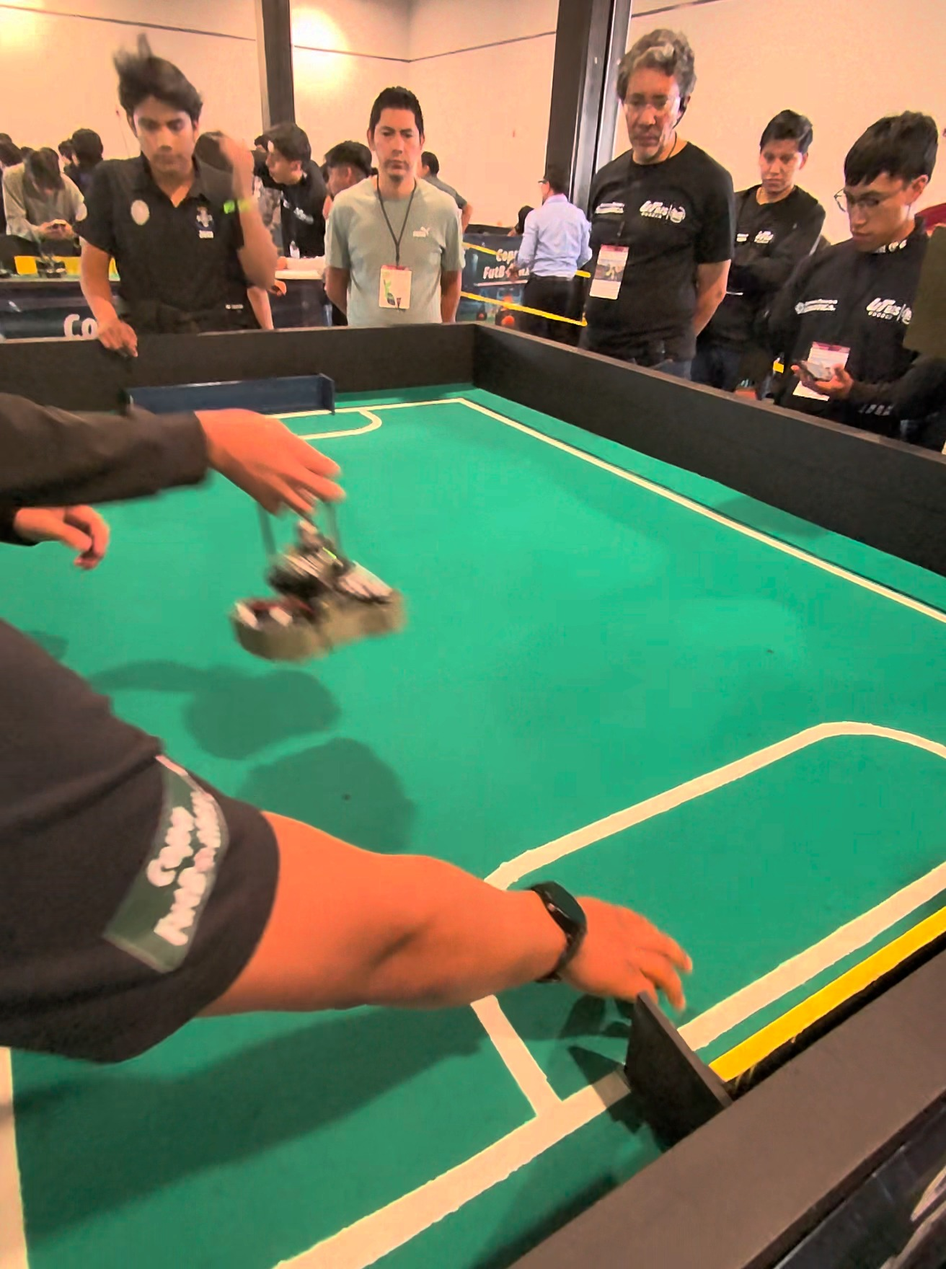Robot: (198, 443, 433, 693)
